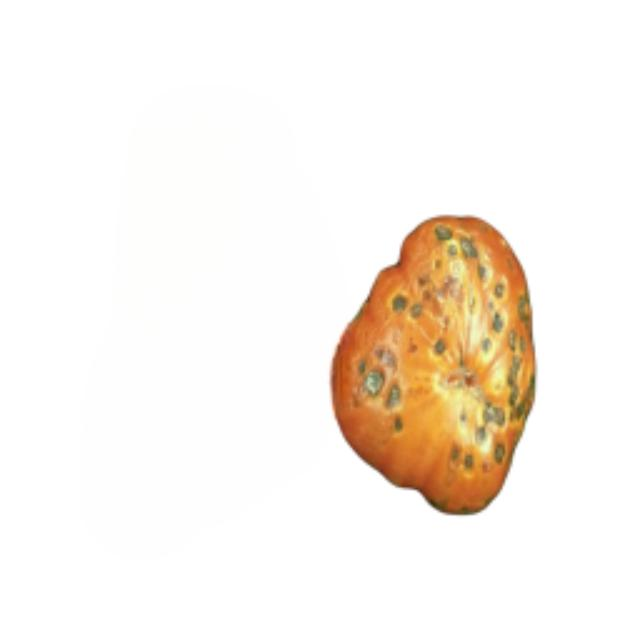defect: (324, 209, 539, 519)
